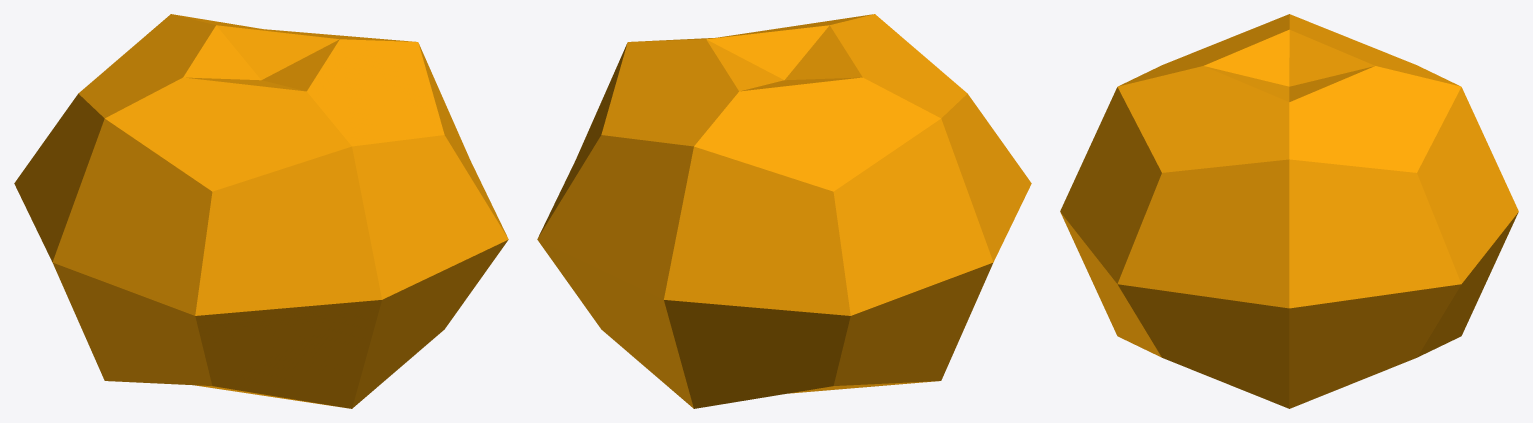
File: Orange.fbx
3 views of the same model, side by side, from view 1: azimuth 30°, elevation 25°; view 2: azimuth 150°, elevation 25°; view 3: azimuth 270°, elevation 25° (orthographic). The views are drawn at different scales.
Visible parts, largest first — view 1: Cube; view 2: Cube; view 3: Cube.
Boxes of the visible parts, x1,y1,x2,y2 form: Cube: [14, 14, 508, 408]; Cube: [537, 14, 1031, 408]; Cube: [1060, 14, 1518, 408].
Bounding box in the file's own units: 250 × 175 × 250.
